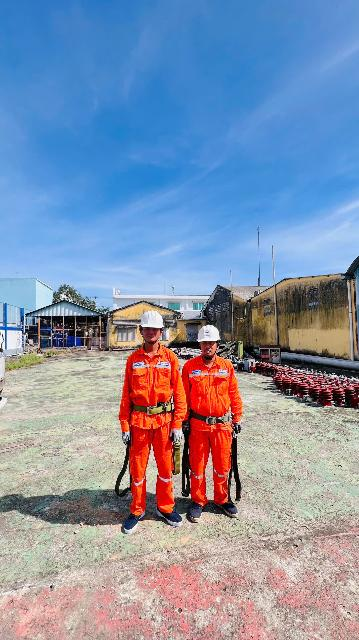gloves: (113, 430, 135, 447), (164, 430, 188, 445), (181, 418, 198, 435), (235, 419, 242, 436)
harness: (188, 401, 243, 429), (126, 398, 183, 422)
helmet: (138, 306, 166, 332), (193, 323, 222, 345)
shoes: (118, 508, 149, 535), (151, 502, 184, 526), (211, 497, 242, 520), (185, 497, 205, 522)
